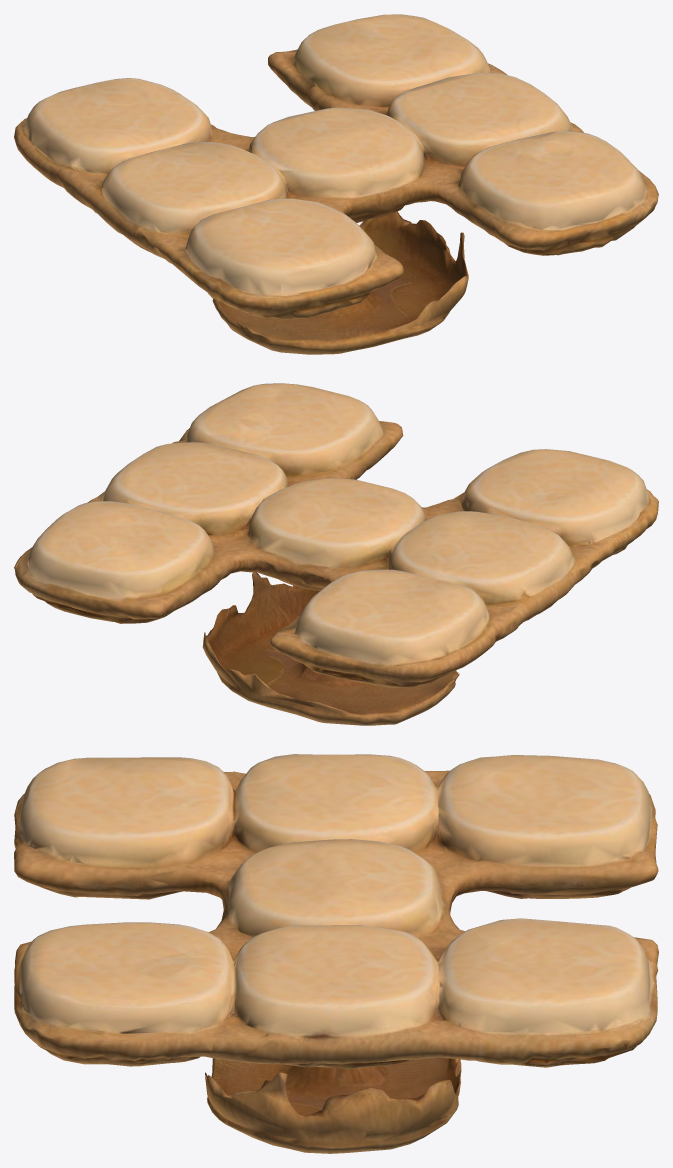
File: road-t-junction.glb
The picture shows the model from 3 angles, top to bottom: view 1: azimuth 30°, elevation 25°; view 2: azimuth 150°, elevation 25°; view 3: azimuth 270°, elevation 25°; orthographic projection. The views are drawn at different scales.
Visible parts, largest first — view 1: Mesh_0; view 2: Mesh_0; view 3: Mesh_0.
Part boxes in pixels (x1,y1,x2,y2): Mesh_0: [14, 14, 658, 354]; Mesh_0: [14, 383, 658, 725]; Mesh_0: [14, 754, 658, 1153].
Size of the model in its own units: 2 by 0.7937 by 2.
Materials: 1 (1 with a texture image).
